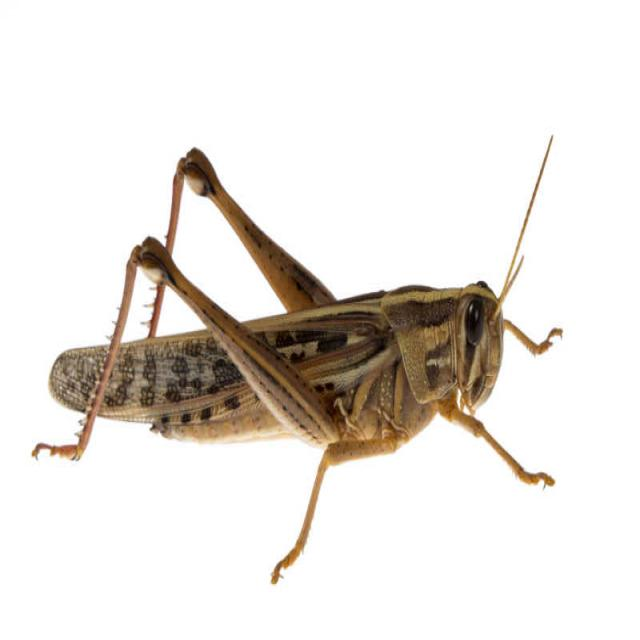ZhaMeng: (22, 138, 561, 499)
